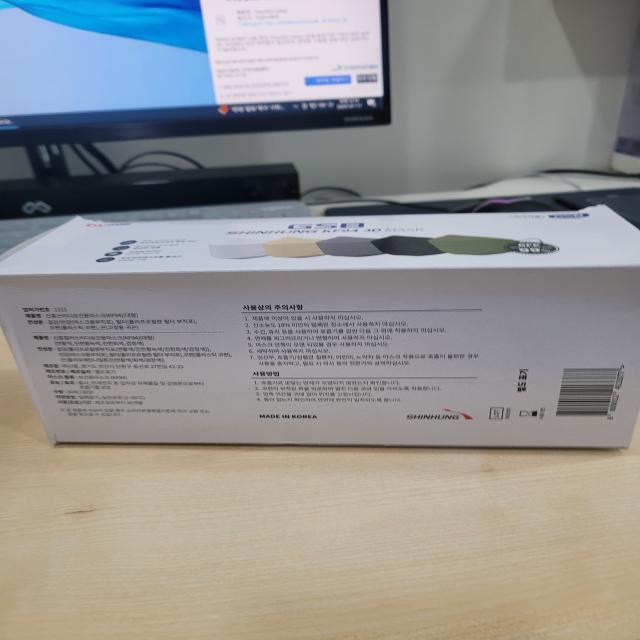mask: (0, 208, 640, 470)
